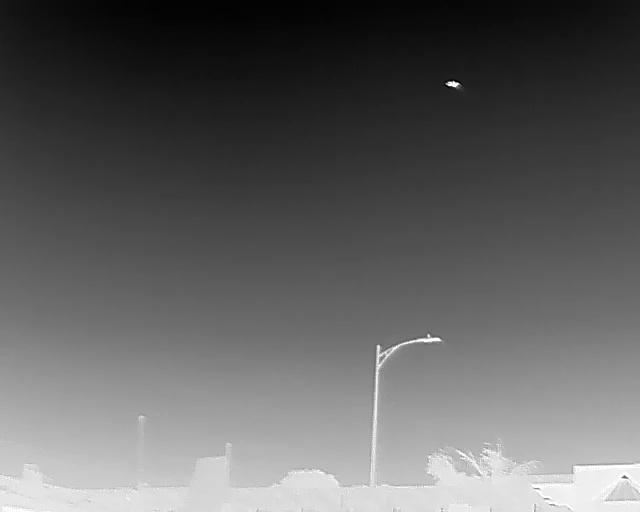fpv-drone: (445, 80, 462, 90)
